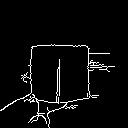cube: (26, 43, 97, 105)
